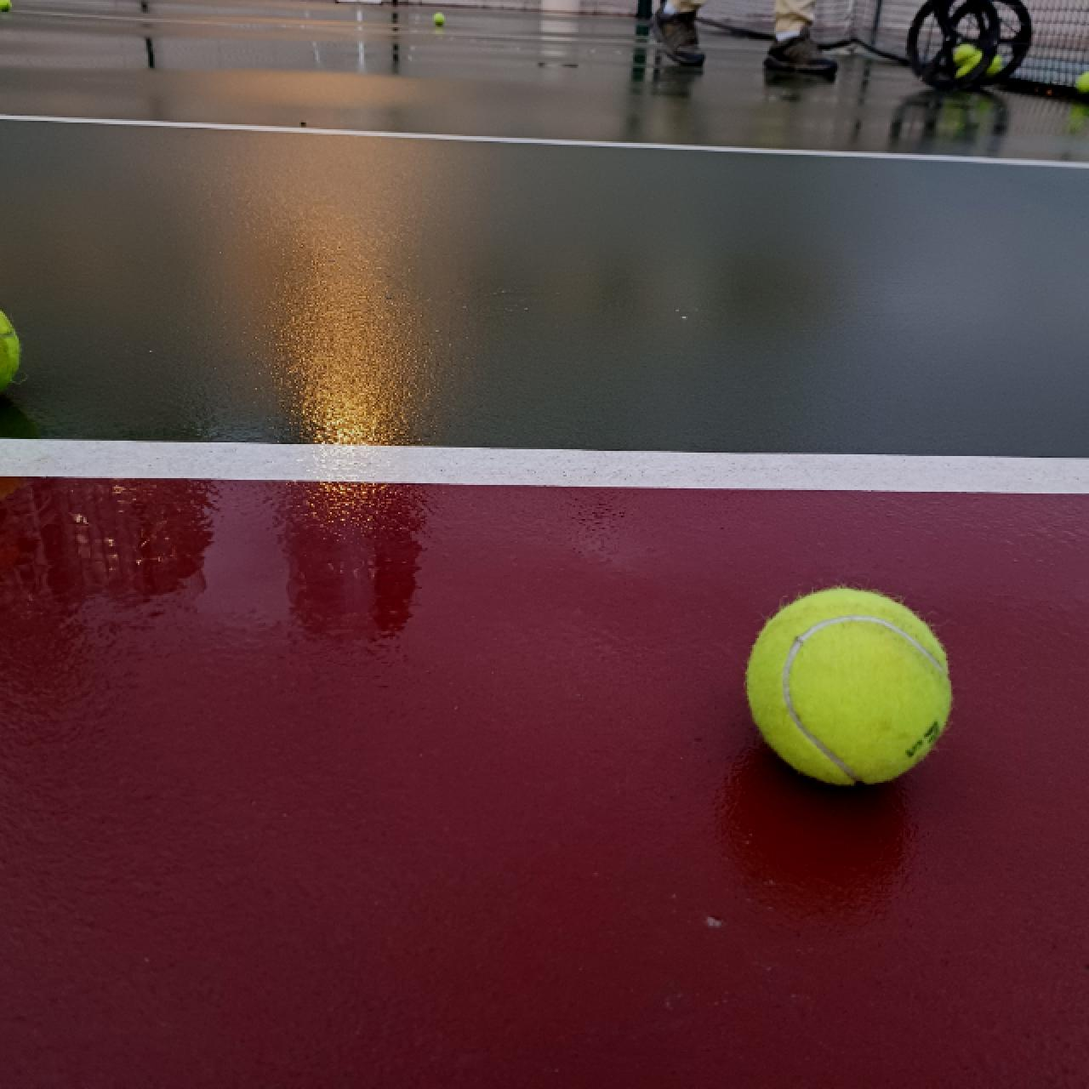tennis-ball: (743, 584, 951, 790), (0, 303, 28, 402), (953, 44, 975, 65), (1074, 70, 1089, 99), (954, 63, 976, 81), (984, 54, 1001, 76), (969, 51, 986, 71), (432, 10, 446, 26), (0, 0, 13, 13)
